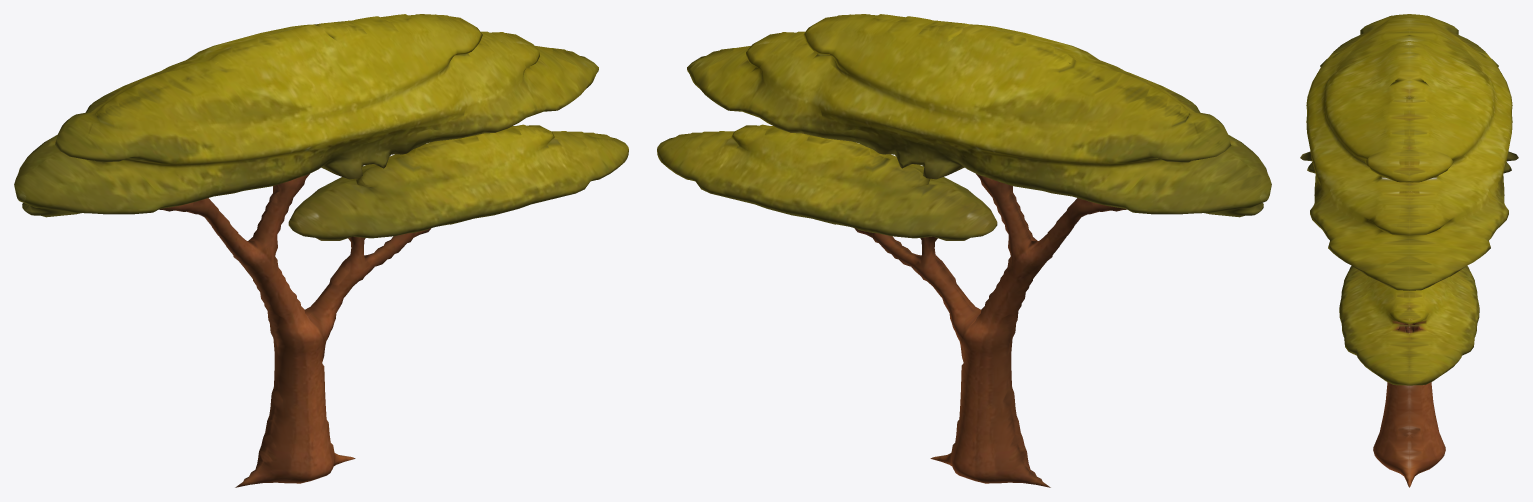
Rendered from acacia_two.glb.
3 renders of one model, left to right at view 1: azimuth 30°, elevation 25°; view 2: azimuth 150°, elevation 25°; view 3: azimuth 270°, elevation 25°, orthographic. The views are drawn at different scales.
Parts seen in each view (by area): view 1: acacia_two; view 2: acacia_two; view 3: acacia_two.
Part boxes in pixels (<box>): acacia_two: <box>14,14,628,487</box>; acacia_two: <box>657,14,1271,487</box>; acacia_two: <box>1300,14,1518,487</box>.
Bounding box in the file's own units: 6.35 × 4.39 × 2.2.
1 material, 1 textured.
